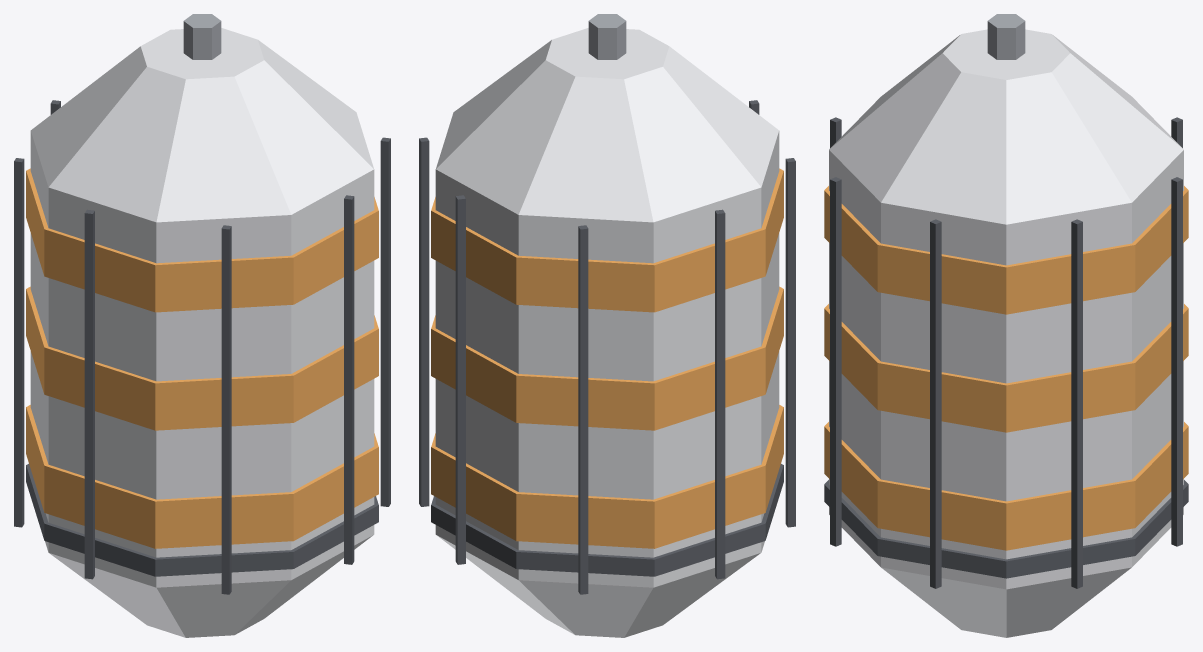
File: tank_huge.glb
The picture shows the model from 3 angles, left to right: view 1: azimuth 30°, elevation 25°; view 2: azimuth 150°, elevation 25°; view 3: azimuth 270°, elevation 25°; orthographic projection.
Visible parts, largest first — view 1: tank_huge; view 2: tank_huge; view 3: tank_huge.
Boxes of the visible parts, box(x1,y1,x2,y2) form: tank_huge: box(14, 14, 390, 637); tank_huge: box(419, 14, 795, 637); tank_huge: box(824, 14, 1188, 637).
Bounding box in the file's own units: 1.54 × 2.75 × 1.54.
